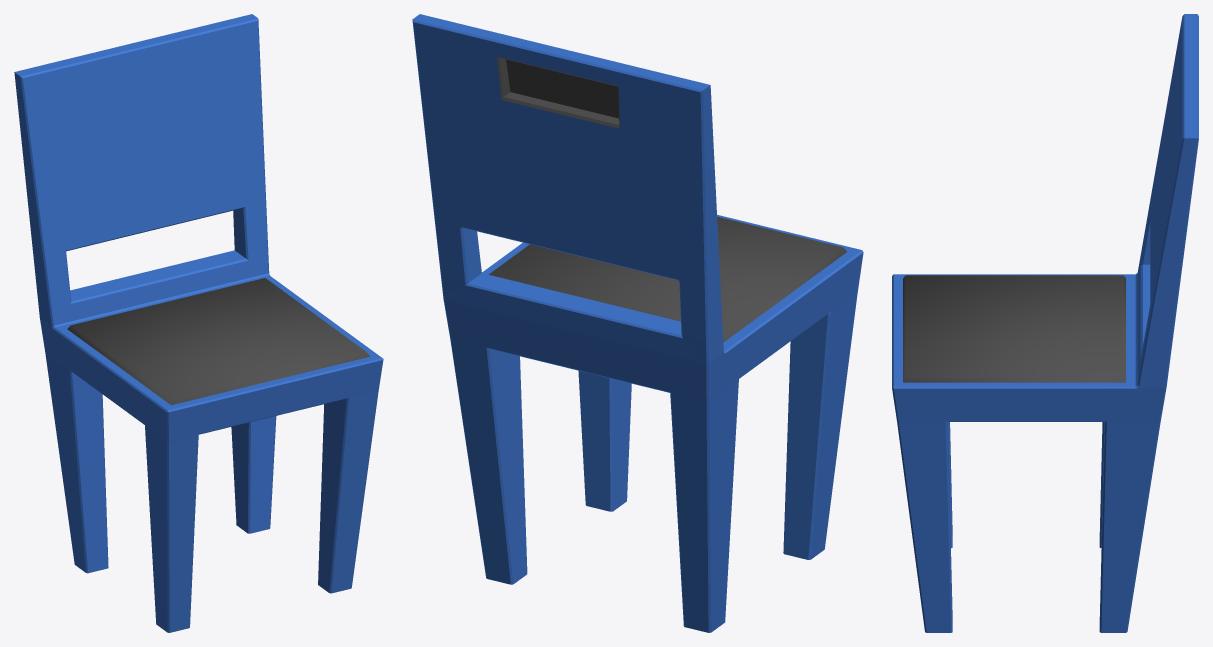
Rendered from Chair_Bl_00.FBX.
The picture shows the model from 3 angles, left to right: view 1: azimuth 30°, elevation 25°; view 2: azimuth 150°, elevation 25°; view 3: azimuth 270°, elevation 25°; orthographic projection. The views are drawn at different scales.
Visible parts, largest first — view 1: Chair_Bl_00; view 2: Chair_Bl_00; view 3: Chair_Bl_00.
Boxes of the visible parts, left/top/right/bottom form: Chair_Bl_00: left=14, top=14, right=383, bottom=632; Chair_Bl_00: left=412, top=14, right=863, bottom=632; Chair_Bl_00: left=892, top=14, right=1198, bottom=632.
Bounding box in the file's own units: 0.5255 × 1 × 0.548.
